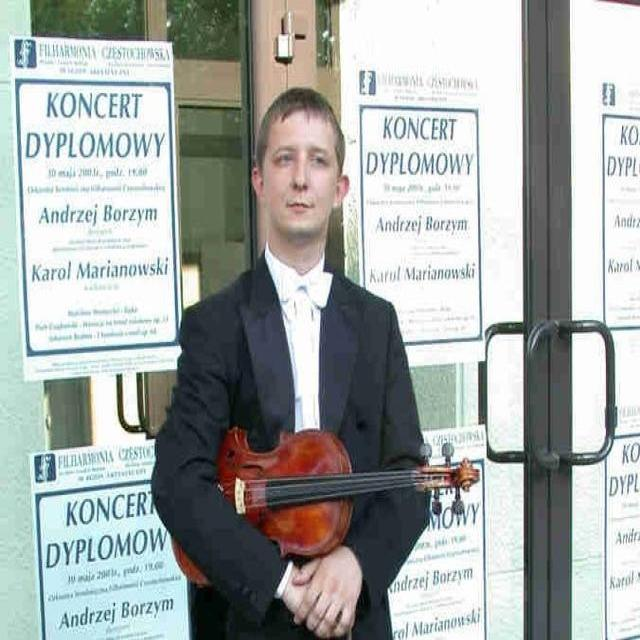violin: (172, 421, 482, 582)
